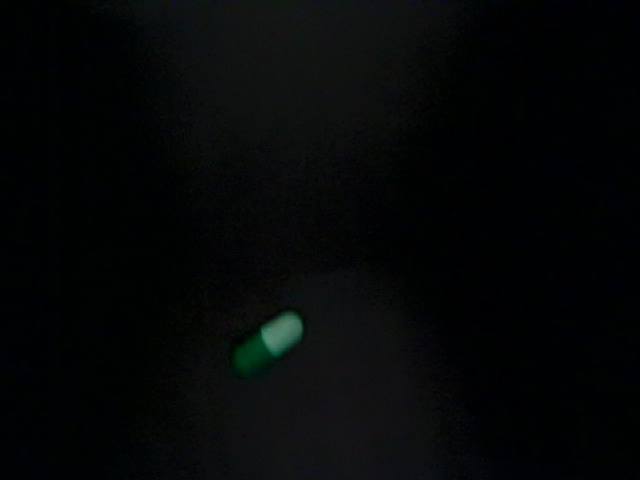YHLJ: (239, 69, 475, 187)
